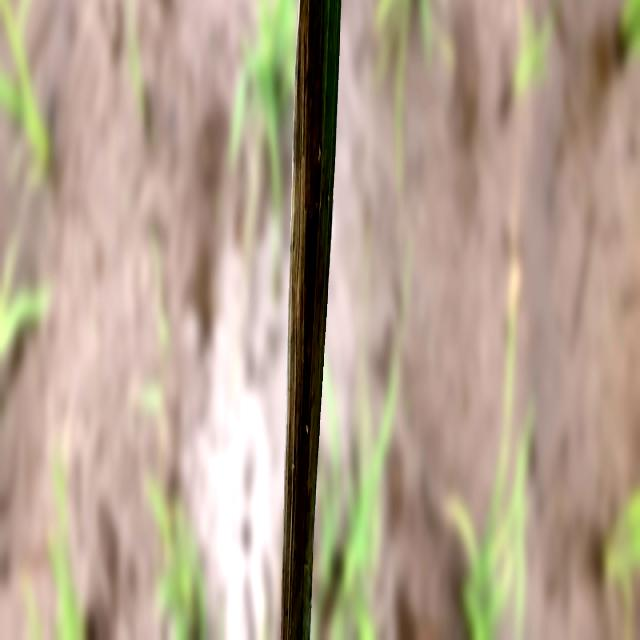BLB: (281, 0, 333, 639)
